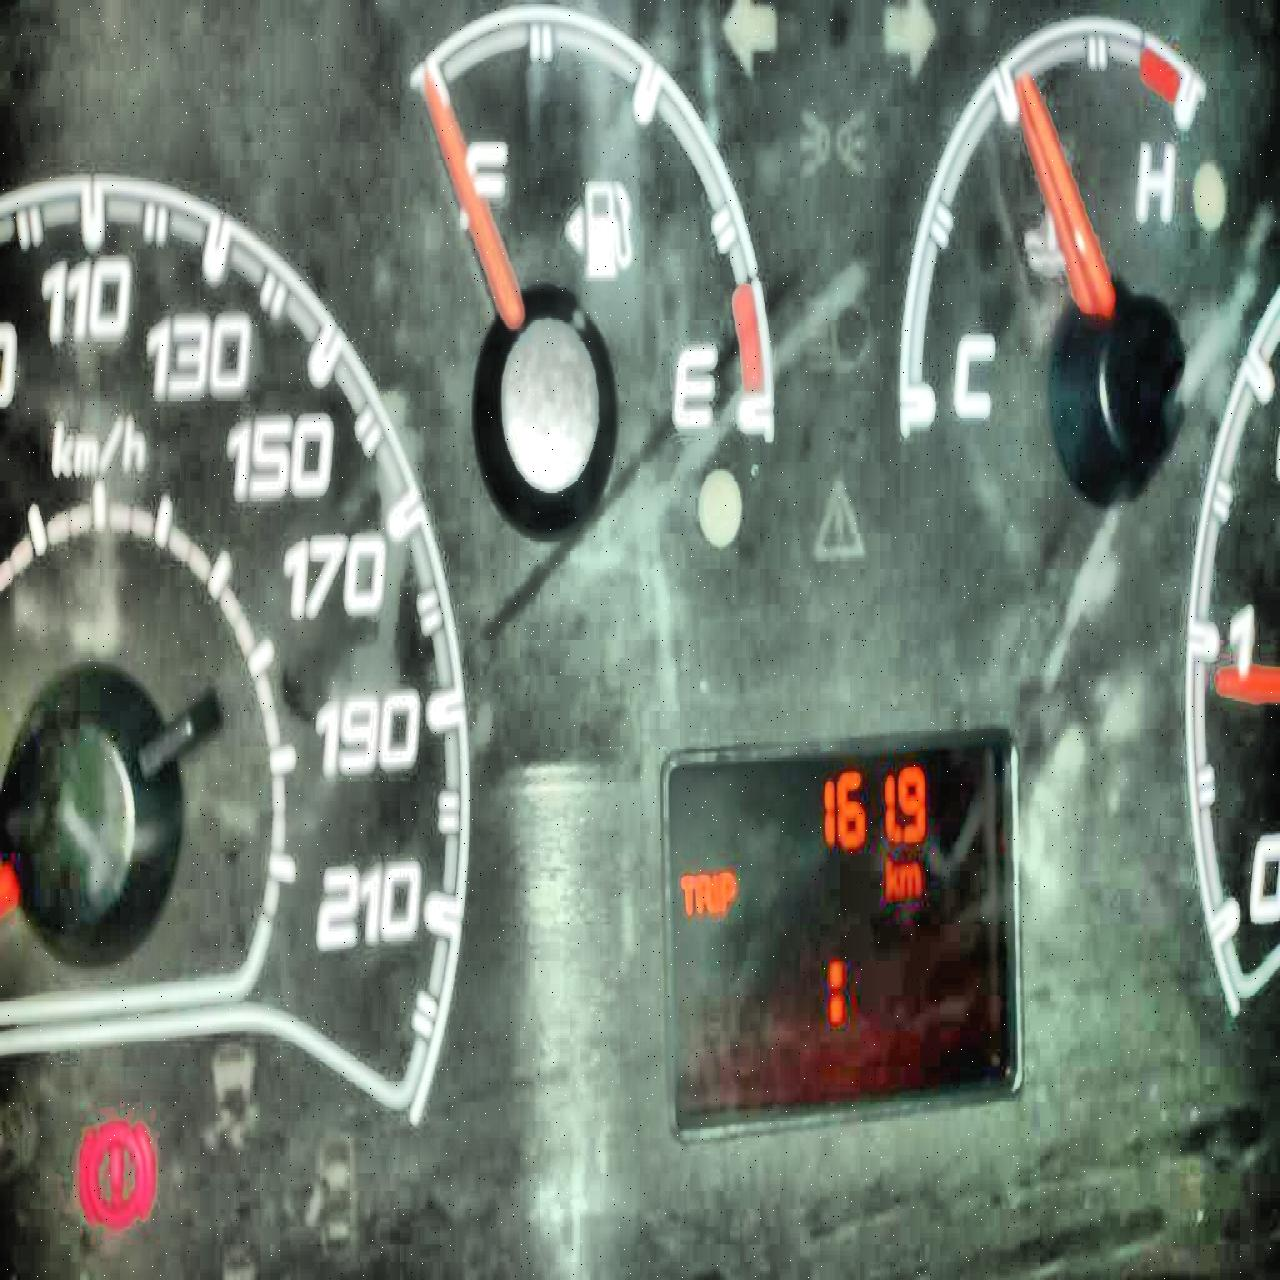-: (893, 819, 901, 844)
1: (822, 771, 837, 853), (883, 767, 897, 840)
6: (837, 767, 865, 851)
9: (899, 757, 926, 843)
X: (825, 948, 847, 1033), (679, 869, 695, 920), (695, 864, 710, 918), (720, 866, 736, 915), (899, 860, 920, 898), (885, 853, 897, 900), (712, 865, 719, 926)
odometer: (663, 717, 1028, 1133)
